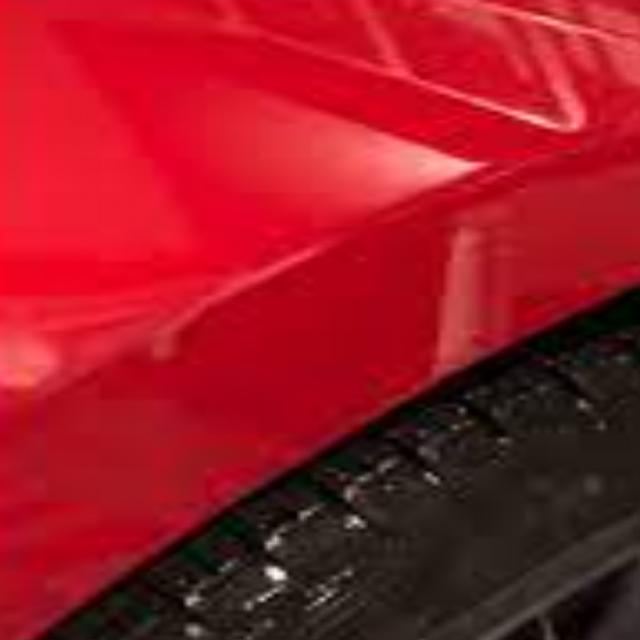dents: (0, 292, 84, 414)
